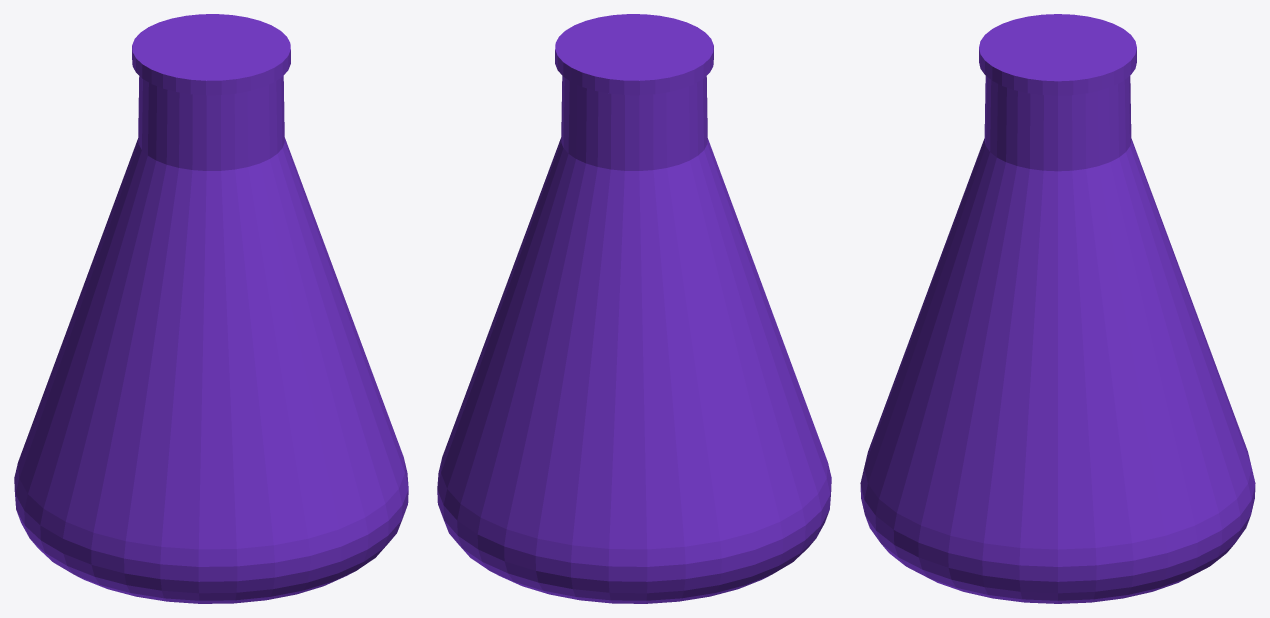
File: beaker.fbx
3 views of the same model, side by side, from view 1: azimuth 30°, elevation 25°; view 2: azimuth 150°, elevation 25°; view 3: azimuth 270°, elevation 25° (orthographic).
Visible parts, largest first — view 1: Cylinder.001; view 2: Cylinder.001; view 3: Cylinder.001.
Part boxes in pixels (x1,y1,x2,y2): Cylinder.001: (14,14,408,603); Cylinder.001: (437,14,831,603); Cylinder.001: (860,14,1255,603).
Size of the model in its own units: 180 by 246 by 180.
